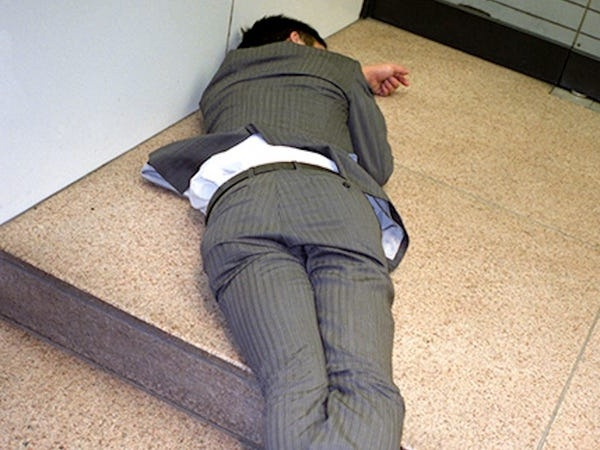fall: (168, 1, 426, 450)
